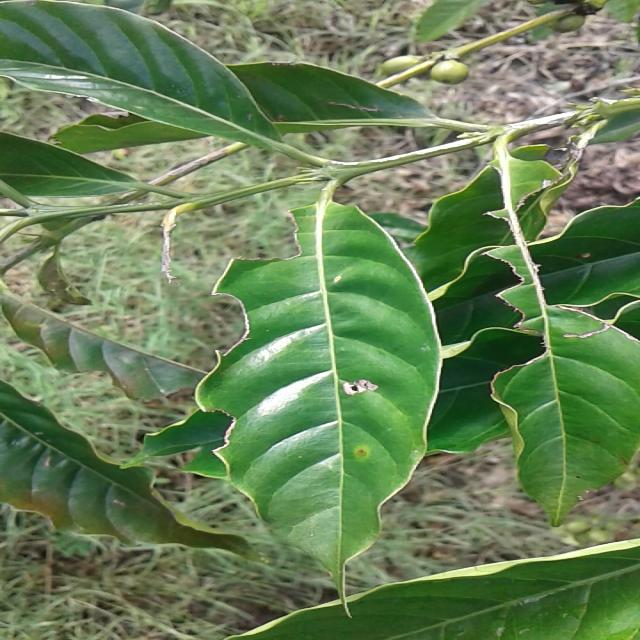Enfermedad-Roya: (195, 200, 443, 606)
